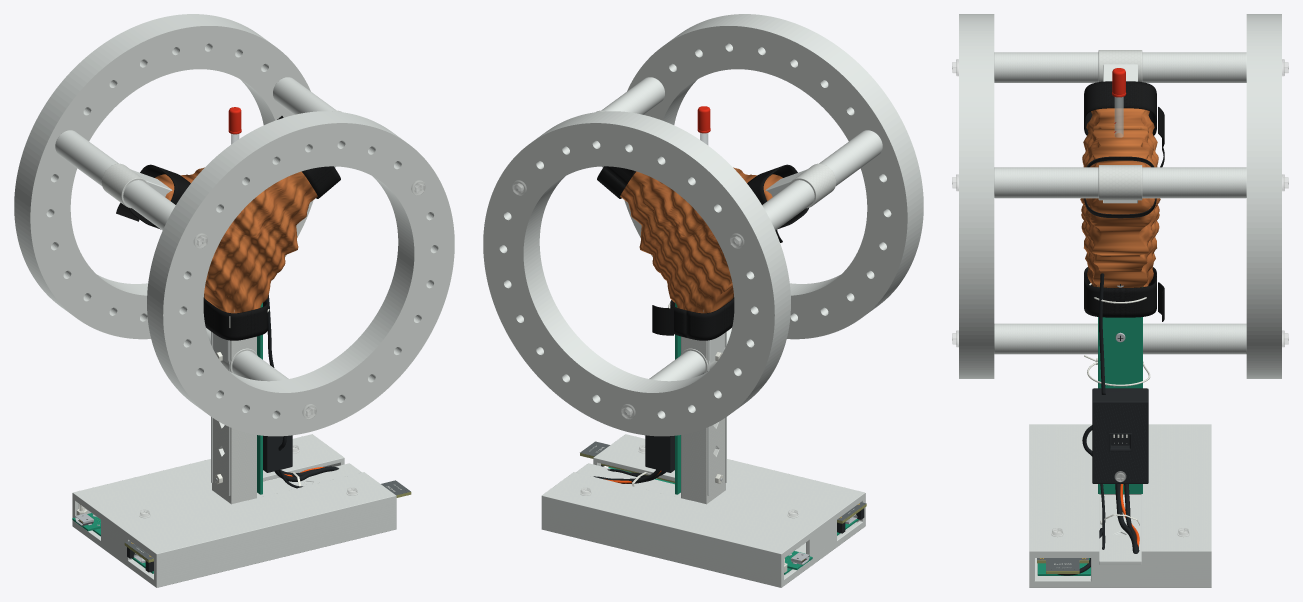
File: nmr_apparatus.glb
3 views of the same model, side by side, from view 1: azimuth 30°, elevation 25°; view 2: azimuth 150°, elevation 25°; view 3: azimuth 270°, elevation 25° (orthographic). The views are drawn at different scales.
Parts seen in each view (by area): view 1: 01 Ring A, negative cage axis Y, 02 Ring B, positive cage axis Y, 14 Electronics base enclosure, 11 Crumpled orange foil center wrap, 06 White electronics support, 12 Woven retaining straps, 03 Cage longitudinal strut 2, 05 Internal radial supports, 03 Cage longitudinal strut 1, 03 Cage longitudinal strut 3, 08 Black control housing and switch, 09 Attached wiring (+1 smaller); view 2: 02 Ring B, positive cage axis Y, 01 Ring A, negative cage axis Y, 14 Electronics base enclosure, 11 Crumpled orange foil center wrap, 12 Woven retaining straps, 06 White electronics support, 03 Cage longitudinal strut 2, 05 Internal radial supports, 03 Cage longitudinal strut 1, 03 Cage longitudinal strut 3, 08 Black control housing and switch, 21 Detailed T-shaped rear and front-right module; view 3: 14 Electronics base enclosure, 01 Ring A, negative cage axis Y, 02 Ring B, positive cage axis Y, 11 Crumpled orange foil center wrap, 03 Cage longitudinal strut 1, 03 Cage longitudinal strut 3, 03 Cage longitudinal strut 2, 08 Black control housing and switch, 12 Woven retaining straps, 07 Green vertical circuit board, 05 Internal radial supports, 09 Attached wiring (+4 smaller).
Boxes of the visible parts, x1,y1,x2,y2 form: 01 Ring A, negative cage axis Y: [147, 111, 454, 436]; 02 Ring B, positive cage axis Y: [14, 14, 313, 339]; 14 Electronics base enclosure: [72, 434, 396, 587]; 11 Crumpled orange foil center wrap: [155, 167, 317, 313]; 06 White electronics support: [211, 310, 256, 504]; 12 Woven retaining straps: [116, 116, 340, 340]; 03 Cage longitudinal strut 2: [55, 130, 175, 230]; 05 Internal radial supports: [101, 110, 341, 373]; 03 Cage longitudinal strut 1: [273, 77, 336, 114]; 03 Cage longitudinal strut 3: [206, 328, 288, 381]; 08 Black control housing and switch: [263, 435, 292, 472]; 09 Attached wiring: [266, 294, 338, 488]; 02 Ring B, positive cage axis Y: [483, 111, 790, 436]; 01 Ring A, negative cage axis Y: [624, 14, 923, 339]; 14 Electronics base enclosure: [541, 434, 865, 587]; 11 Crumpled orange foil center wrap: [620, 167, 782, 313]; 12 Woven retaining straps: [597, 164, 808, 340]; 06 White electronics support: [681, 310, 726, 504]; 03 Cage longitudinal strut 2: [762, 130, 882, 230]; 05 Internal radial supports: [596, 110, 836, 373]; 03 Cage longitudinal strut 1: [601, 77, 664, 114]; 03 Cage longitudinal strut 3: [649, 328, 731, 381]; 08 Black control housing and switch: [645, 435, 674, 472]; 21 Detailed T-shaped rear and front-right module: [580, 441, 866, 533]; 14 Electronics base enclosure: [1029, 424, 1211, 587]; 01 Ring A, negative cage axis Y: [959, 14, 994, 378]; 02 Ring B, positive cage axis Y: [1246, 14, 1281, 378]; 11 Crumpled orange foil center wrap: [1080, 108, 1160, 287]; 03 Cage longitudinal strut 1: [994, 167, 1246, 198]; 03 Cage longitudinal strut 3: [994, 323, 1246, 354]; 03 Cage longitudinal strut 2: [994, 52, 1246, 82]; 08 Black control housing and switch: [1092, 388, 1148, 483]; 12 Woven retaining straps: [1084, 81, 1164, 321]; 07 Green vertical circuit board: [1098, 284, 1142, 493]; 05 Internal radial supports: [1098, 50, 1142, 203]; 09 Attached wiring: [1057, 273, 1139, 575].
Size of the model in its own units: 0.26 by 0.3885 by 0.24.
19 materials, 5 textured.
